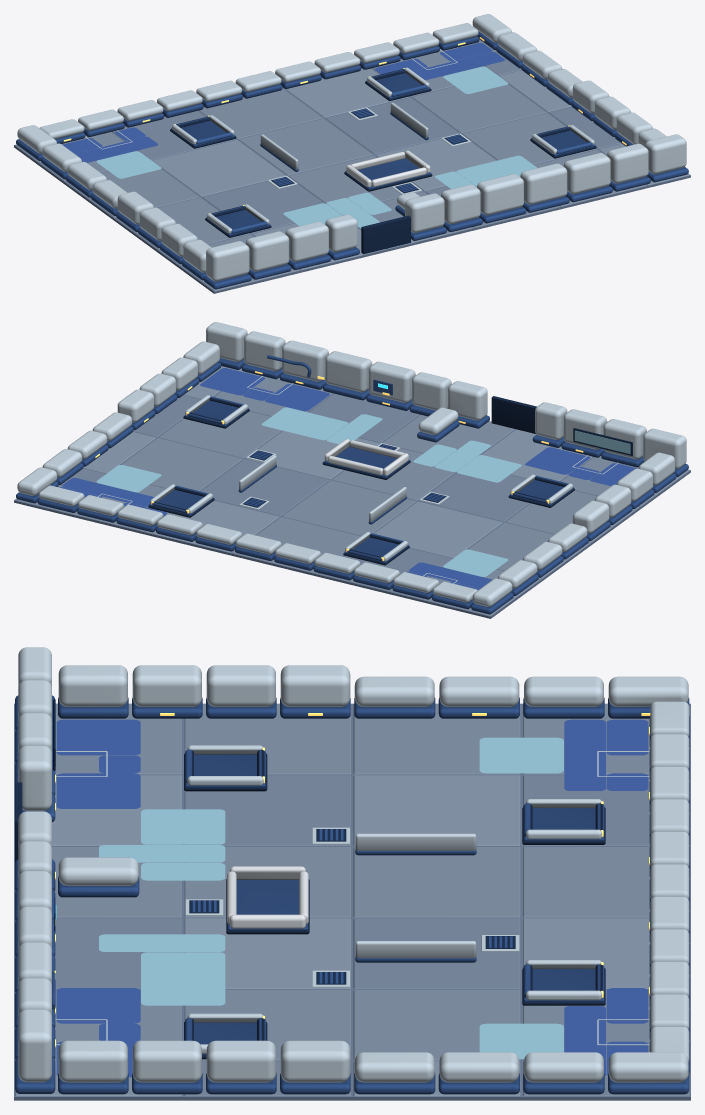
Rendered from CryoSoftRoom_cryo-a.fbx.
3 views of the same model, one above another, from view 1: azimuth 30°, elevation 25°; view 2: azimuth 150°, elevation 25°; view 3: azimuth 270°, elevation 25° (orthographic). The views are drawn at different scales.
Visible parts, largest first — view 1: SC_wall_Soft_Ivory, SC_floor_Soft_Floor, SC_floor_Soft_FloorLight, SC_floor_Soft_FloorShade, SC_wall_Soft_Blue, SC_marking_Soft_Ice, SC_obstacle_Soft_Blue, SC_floor_Soft_Seam, SC_marking_Soft_Dock, SC_obstacle_Soft_Ivory, SC_wall_Soft_Navy, SC_obstacle_Soft_White (+5 smaller); view 2: SC_wall_Soft_Ivory, SC_floor_Soft_Floor, SC_floor_Soft_FloorLight, SC_floor_Soft_FloorShade, SC_wall_Soft_Blue, SC_marking_Soft_Ice, SC_marking_Soft_Dock, SC_obstacle_Soft_Blue, SC_floor_Soft_Seam, SC_wall_Soft_Navy, SC_obstacle_Soft_Ivory, SC_obstacle_Soft_White (+4 smaller); view 3: SC_wall_Soft_Ivory, SC_floor_Soft_Floor, SC_floor_Soft_FloorLight, SC_floor_Soft_FloorShade, SC_wall_Soft_Blue, SC_marking_Soft_Dock, SC_marking_Soft_Ice, SC_obstacle_Soft_Blue, SC_floor_Soft_Seam, SC_obstacle_Soft_Ivory, SC_rail_Soft_Ivory, SC_obstacle_Soft_White (+5 smaller).
Boxes of the visible parts, x1,y1,x2,y2 form: SC_wall_Soft_Ivory: (17, 14, 686, 281); SC_floor_Soft_Floor: (15, 47, 646, 290); SC_floor_Soft_FloorLight: (152, 68, 689, 269); SC_floor_Soft_FloorShade: (112, 39, 620, 233); SC_wall_Soft_Blue: (16, 31, 688, 289); SC_marking_Soft_Ice: (96, 66, 536, 228); SC_obstacle_Soft_Blue: (171, 69, 595, 235); SC_floor_Soft_Seam: (14, 47, 690, 293); SC_marking_Soft_Dock: (62, 43, 504, 162); SC_obstacle_Soft_Ivory: (172, 67, 594, 233); SC_wall_Soft_Navy: (361, 215, 410, 254); SC_obstacle_Soft_White: (346, 150, 430, 187); SC_wall_Soft_Ivory: (17, 322, 686, 606); SC_floor_Soft_Floor: (58, 372, 689, 616); SC_floor_Soft_FloorLight: (83, 366, 592, 558); SC_floor_Soft_FloorShade: (15, 393, 529, 594); SC_wall_Soft_Blue: (16, 355, 688, 614); SC_marking_Soft_Ice: (96, 407, 521, 576); SC_marking_Soft_Dock: (60, 368, 637, 589); SC_obstacle_Soft_Blue: (149, 396, 573, 562); SC_floor_Soft_Seam: (14, 372, 690, 618); SC_wall_Soft_Navy: (491, 396, 632, 455); SC_obstacle_Soft_Ivory: (150, 395, 572, 560); SC_obstacle_Soft_White: (324, 439, 408, 475); SC_wall_Soft_Ivory: (18, 647, 689, 1082); SC_floor_Soft_Floor: (52, 703, 689, 1060); SC_floor_Soft_FloorLight: (15, 775, 649, 1096); SC_floor_Soft_FloorShade: (55, 775, 689, 1096); SC_wall_Soft_Blue: (15, 695, 689, 1094); SC_marking_Soft_Dock: (56, 719, 648, 1077); SC_marking_Soft_Ice: (99, 737, 563, 1059); SC_obstacle_Soft_Blue: (185, 749, 604, 1055); SC_floor_Soft_Seam: (14, 703, 690, 1100); SC_obstacle_Soft_Ivory: (187, 745, 601, 1053); SC_rail_Soft_Ivory: (355, 833, 476, 958); SC_obstacle_Soft_White: (227, 866, 308, 928).
Size of the model in its own units: 4400 by 334 by 3200.
